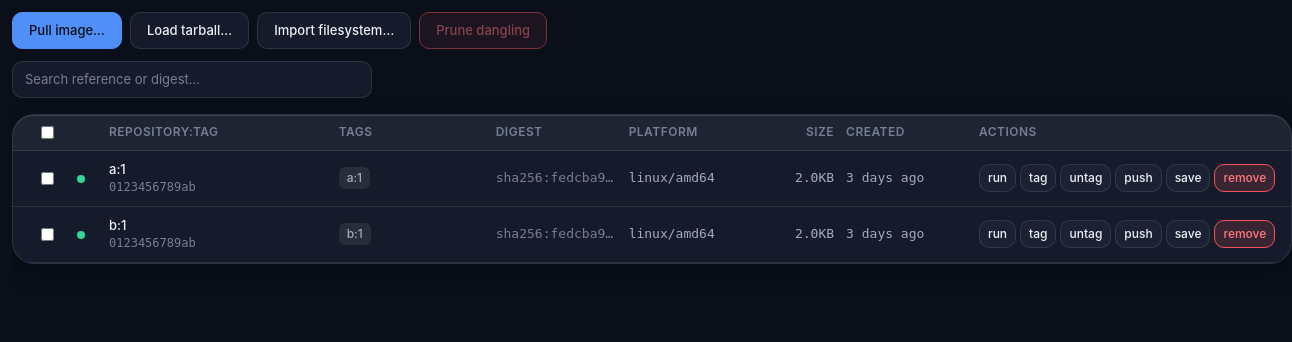
Test case: ImagesScreen — compare filesystems (plan-docker_management_app/REQ-63) › keeps "Compare filesystems…" disabled with only one image selected
Click the 1st checkbox named "Select row". click: (48, 178)
box: [41,172,54,185]
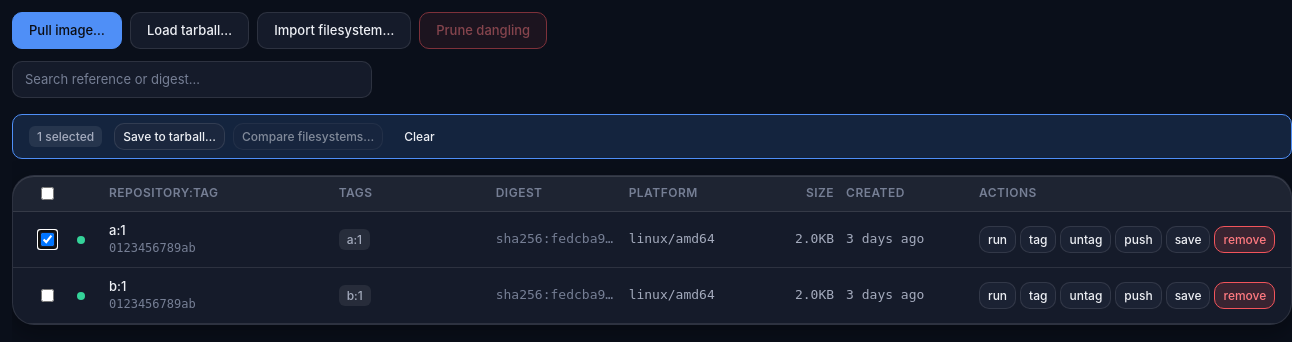
Now the button "Compare filesystems…" is disabled, box [233,123,383,150]
